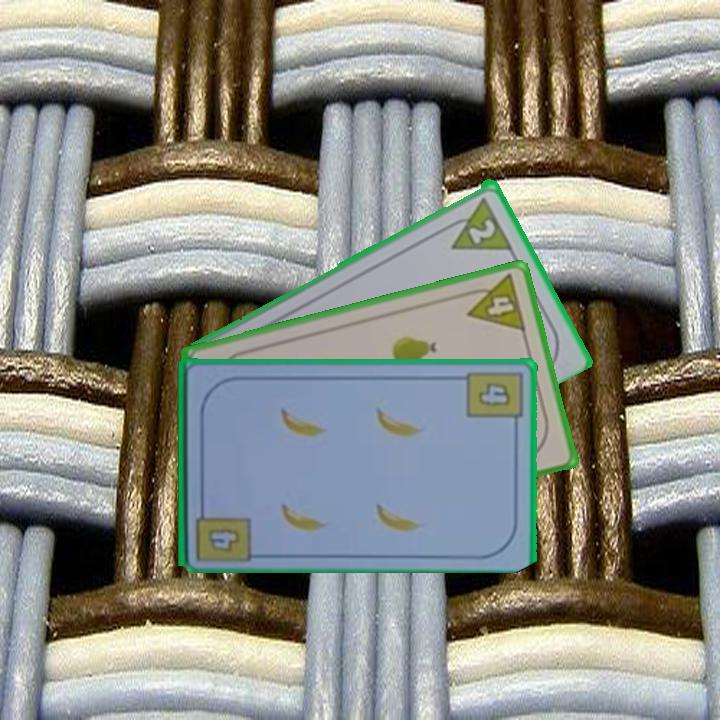2p: (465, 214, 499, 246)
4b: (463, 367, 524, 431), (204, 524, 243, 555)
4p: (459, 271, 529, 335)
